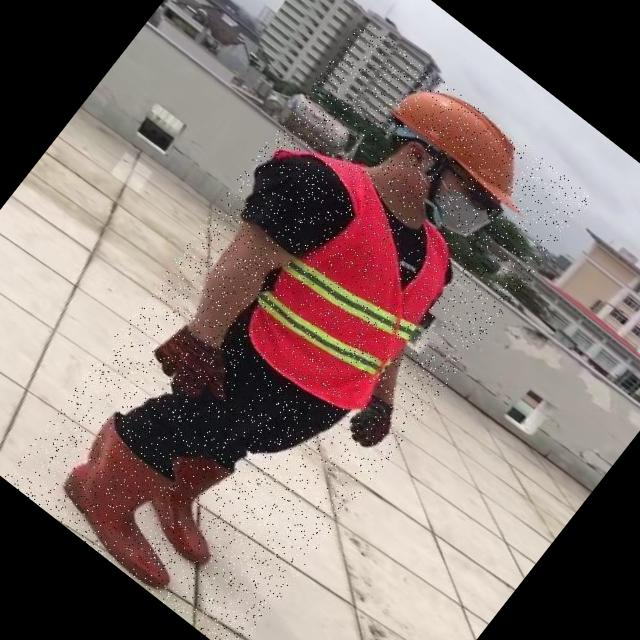hard_hat: (376, 62, 561, 226)
safety_vest: (226, 164, 476, 423)
vehicle: (3, 18, 593, 640)
work_boots: (40, 410, 229, 592), (133, 439, 260, 568)
